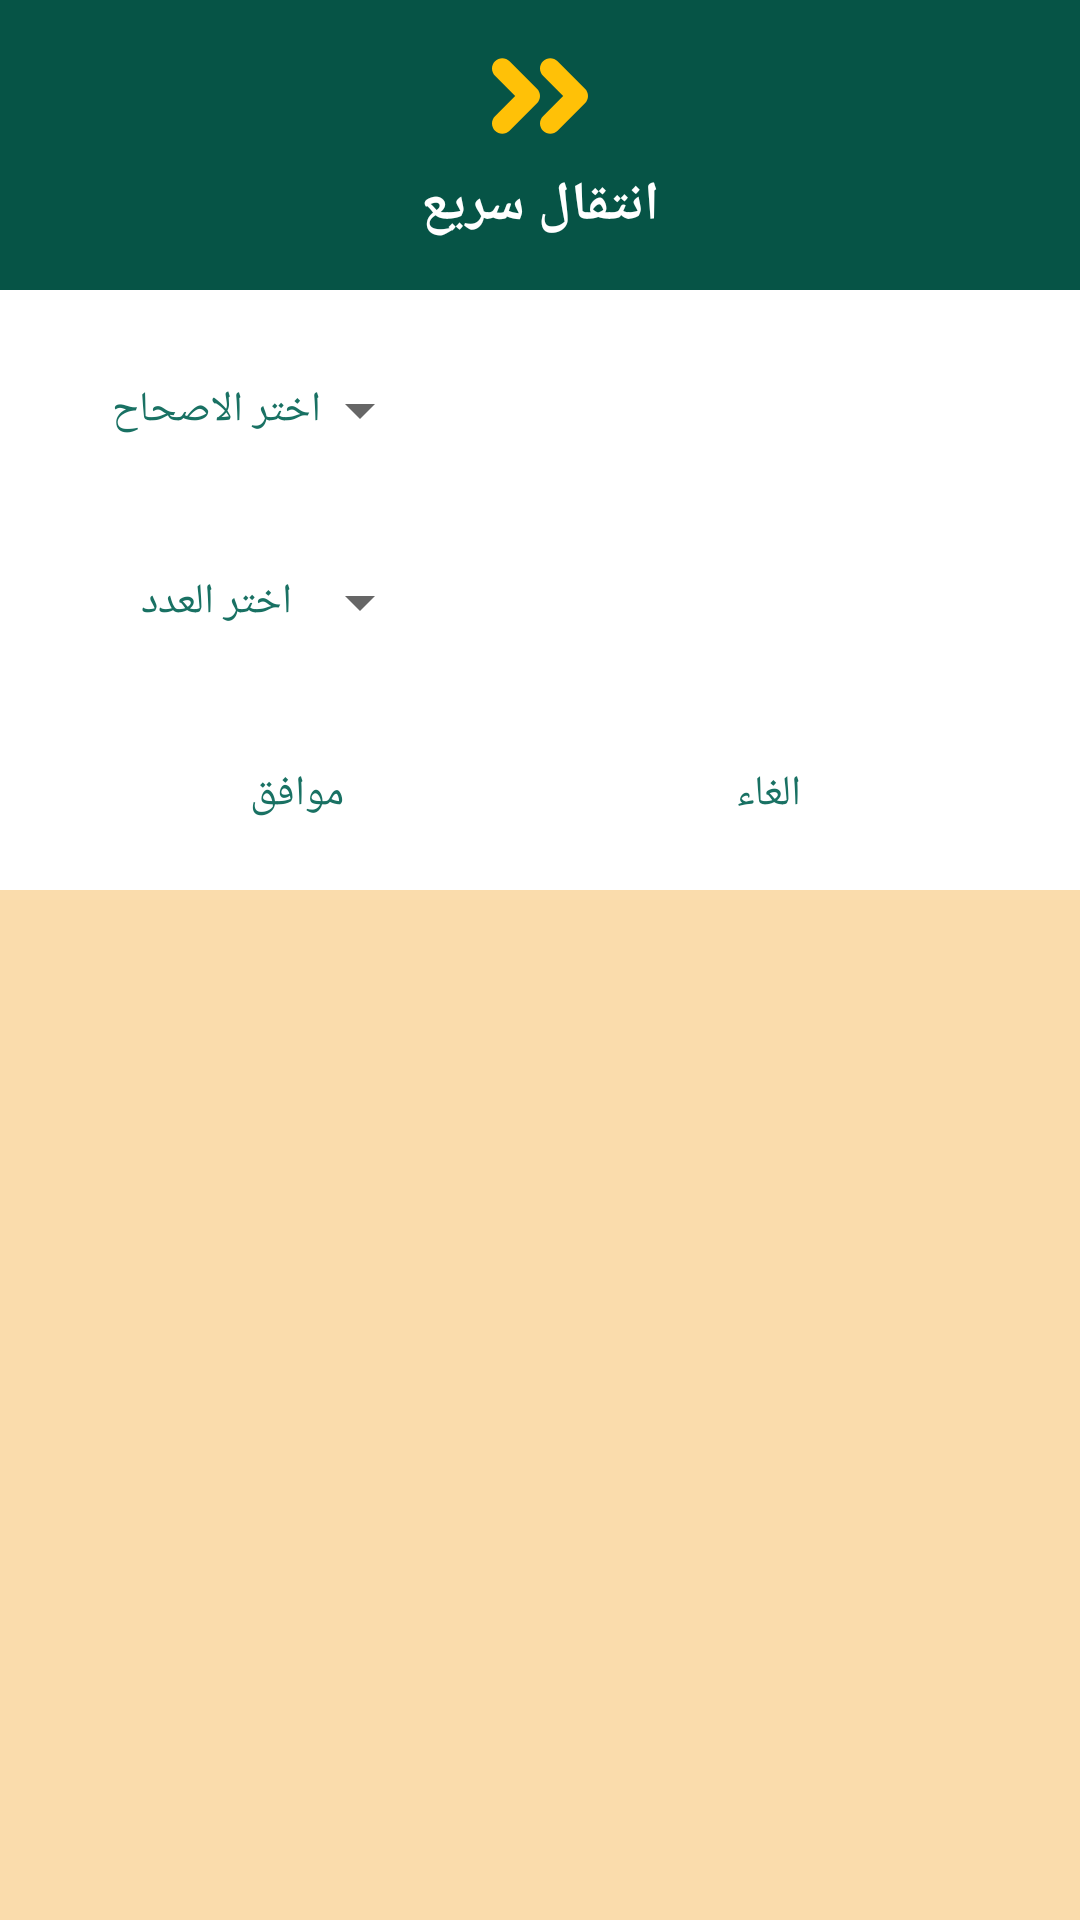

Icon click points for this 1080px×1920px phone screenshot, format (x=x, y=y):
fast forward: (x=540, y=96)
